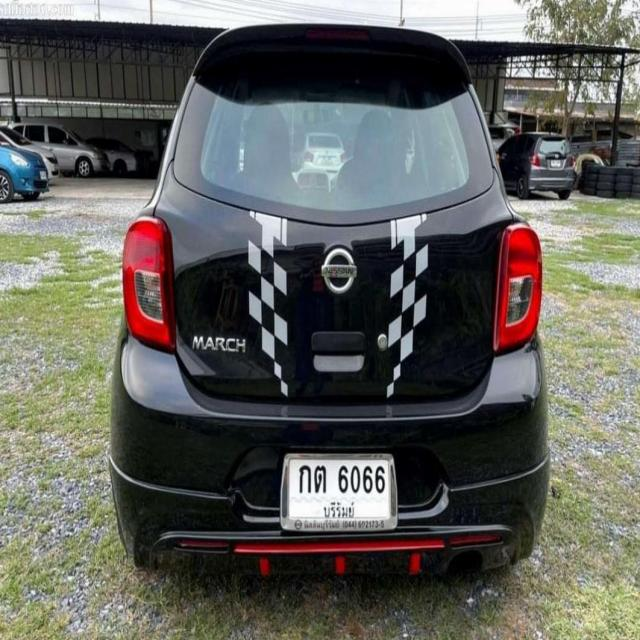license_plate: (279, 448, 400, 534)
